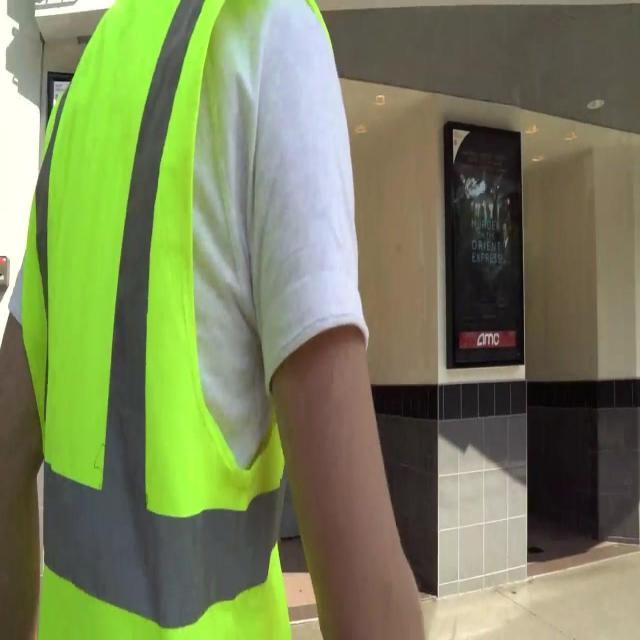Vest: (22, 0, 334, 639)
